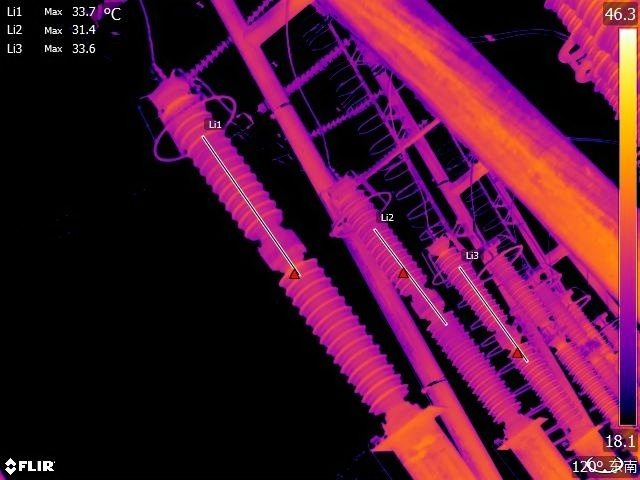insulator: (191, 1, 269, 80), (316, 83, 390, 136), (354, 124, 416, 185), (282, 44, 349, 96)
lightning arrester: (137, 60, 429, 431), (319, 164, 525, 426), (425, 222, 589, 432), (482, 233, 618, 420), (525, 259, 620, 388)
